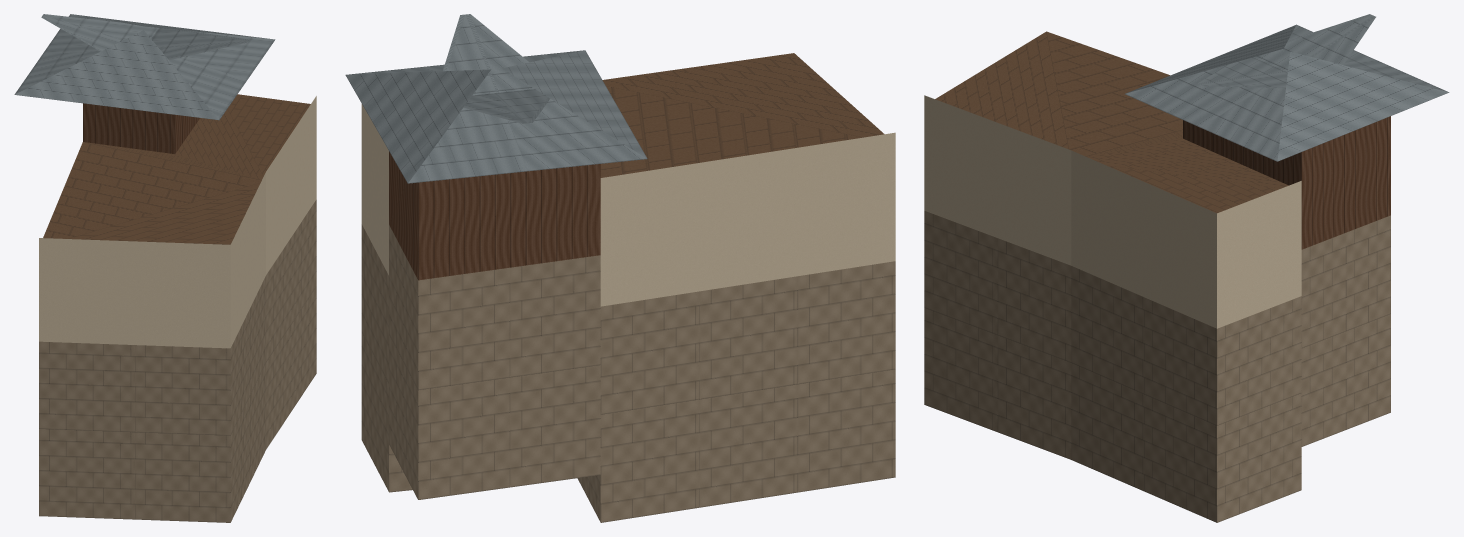
The model's file is bld_c19_44_398.gltf.
The picture shows the model from 3 angles, left to right: view 1: azimuth 30°, elevation 25°; view 2: azimuth 150°, elevation 25°; view 3: azimuth 270°, elevation 25°; orthographic projection. The views are drawn at different scales.
Parts seen in each view (by area): view 1: bld_c19_44_398; view 2: bld_c19_44_398; view 3: bld_c19_44_398.
Part boxes in pixels (box(x1,y1,x2,y2)): bld_c19_44_398: box(14, 14, 316, 522); bld_c19_44_398: box(345, 14, 895, 522); bld_c19_44_398: box(924, 14, 1449, 522).
Size of the model in its own units: 9.57 by 9.2 by 11.04.
6 materials, 6 textured.
